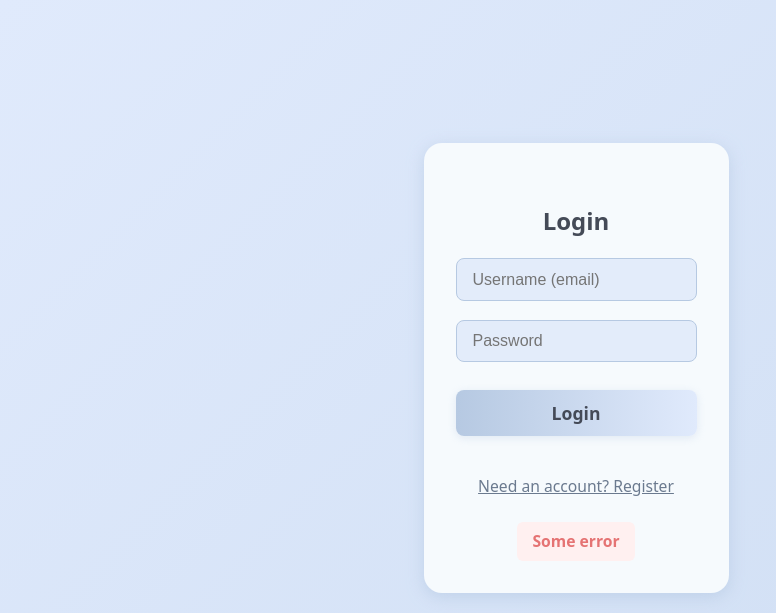
Test case: LoginForm › clears fields and errors when toggling to login
The width and height of the screenshot is (776, 613).
// Switch to register
Step 1. Click the button "Need an account? Register" → (576, 486), box x1=459 y1=466 x2=693 y2=506
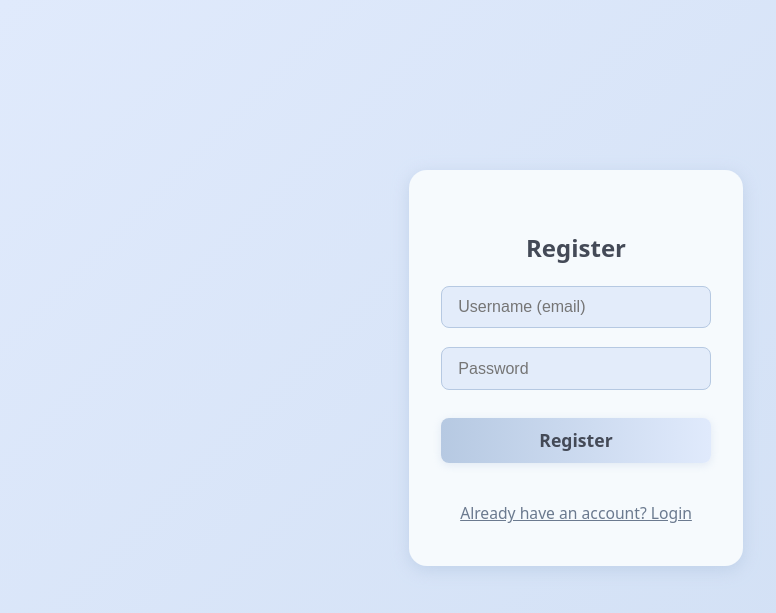
// Fill fields and show error
Step 2. Type "notanemail" into the field with placeholder "Username (email)" → (576, 307), box x1=441 y1=286 x2=711 y2=328
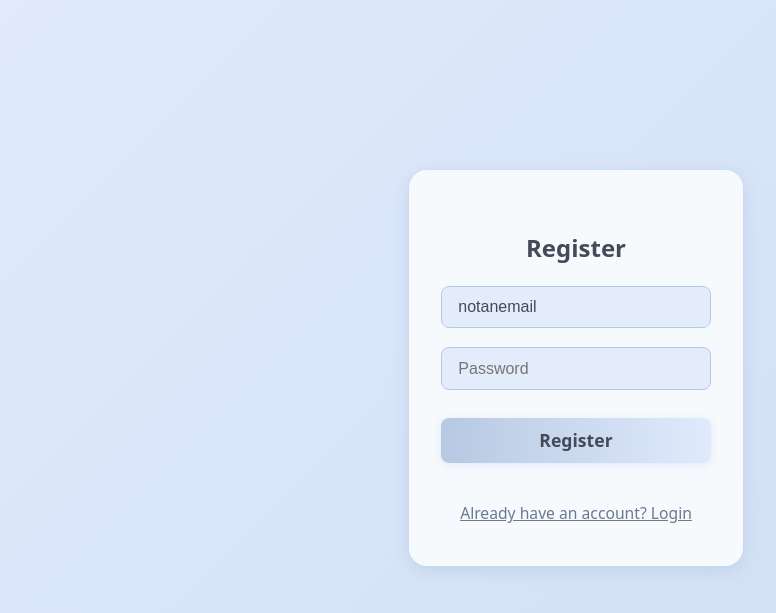
Step 3. Type "pw" into the password field with placeholder "Password" → (576, 369), box x1=441 y1=348 x2=711 y2=390
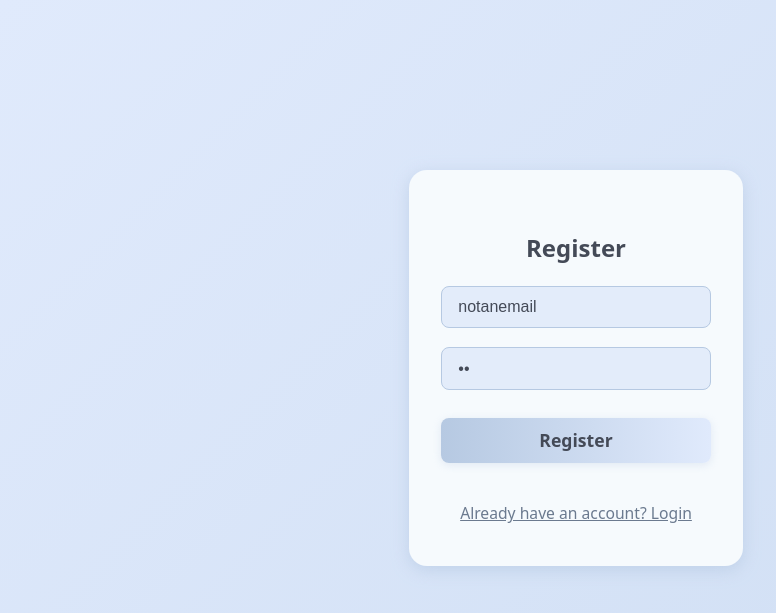
Step 4. Submit the form with test id "login-form" showing "Register", box x1=441 y1=286 x2=711 y2=463
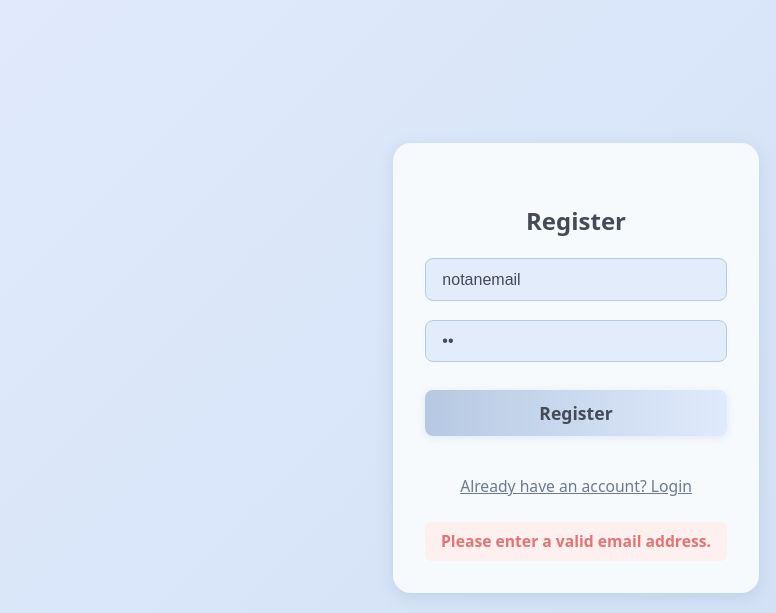
Check: the text "Please enter a valid email address." is shown, box x1=425 y1=522 x2=727 y2=561
// Toggle to login
Step 5. Click the button "Already have an account? Login" → (576, 486), box x1=441 y1=466 x2=711 y2=506
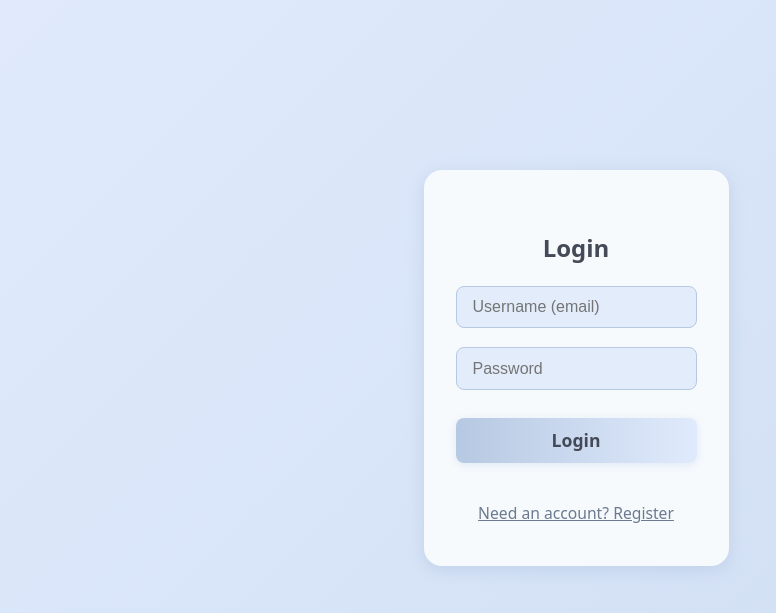
Check: the field with placeholder "Username (email)" is empty, box x1=456 y1=286 x2=696 y2=328
Check: the password field with placeholder "Password" is empty, box x1=456 y1=348 x2=696 y2=390
Check: the text "valid email" is gone
